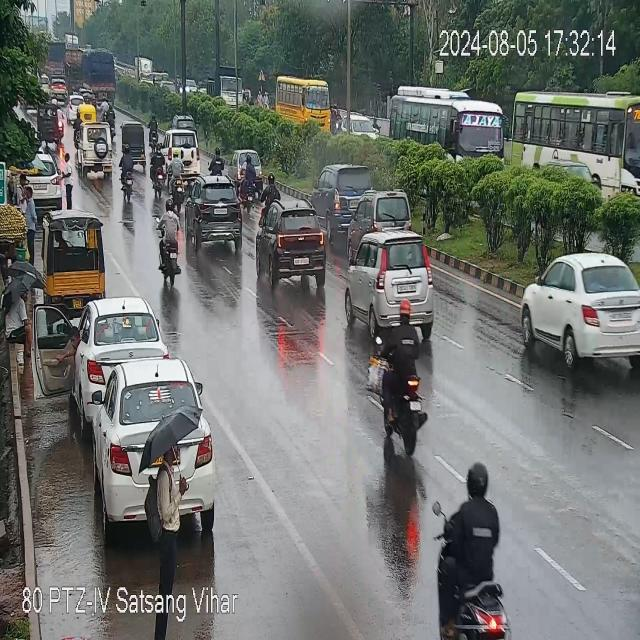2-wheelers: (432, 463, 512, 640), (368, 323, 430, 457), (65, 47, 115, 100), (157, 196, 179, 288), (118, 147, 143, 203), (235, 154, 258, 212), (40, 100, 68, 146), (168, 150, 186, 195), (150, 148, 165, 194), (210, 146, 228, 177), (260, 173, 279, 200)
auto: (41, 209, 111, 304), (261, 75, 335, 132), (75, 124, 113, 178), (122, 123, 150, 167)
bus: (512, 90, 640, 199), (389, 86, 503, 169)
car: (91, 360, 202, 527), (521, 250, 639, 368), (348, 230, 449, 338), (72, 297, 161, 400), (259, 215, 326, 291), (184, 176, 244, 252), (316, 157, 363, 222), (363, 192, 414, 230)
pedestrian: (141, 408, 211, 589), (3, 274, 40, 358), (16, 182, 42, 258), (64, 152, 72, 204)
